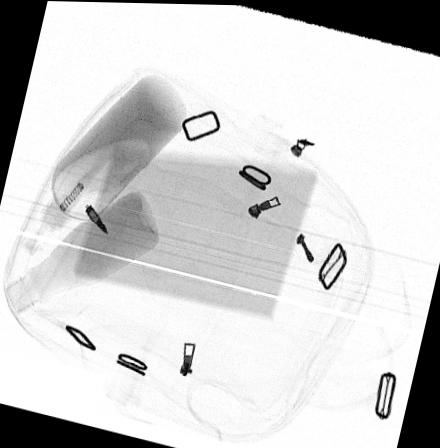Bullet: (83, 203, 107, 234)
